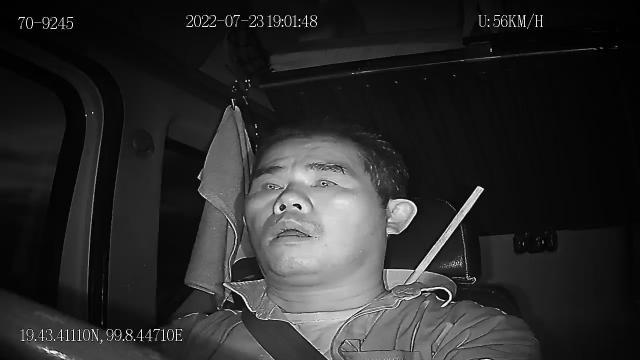SafeDriving: (304, 166, 348, 194), (254, 174, 288, 196)
Seatbelt: (240, 305, 330, 360)
